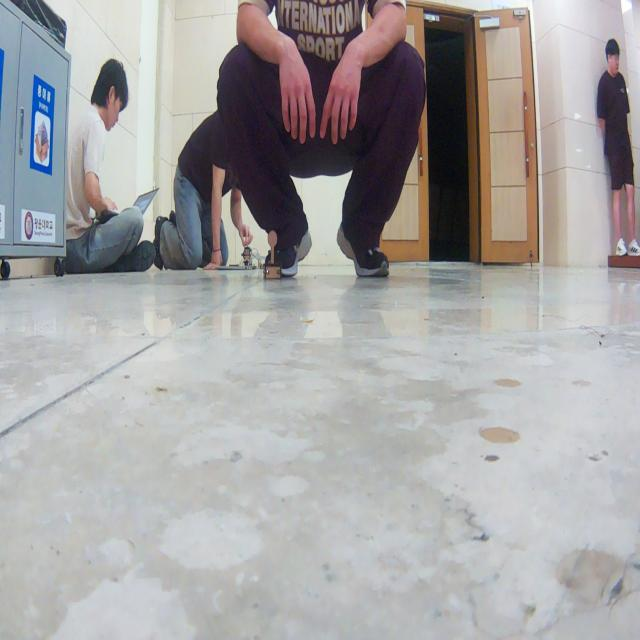target: (263, 229, 282, 279)
